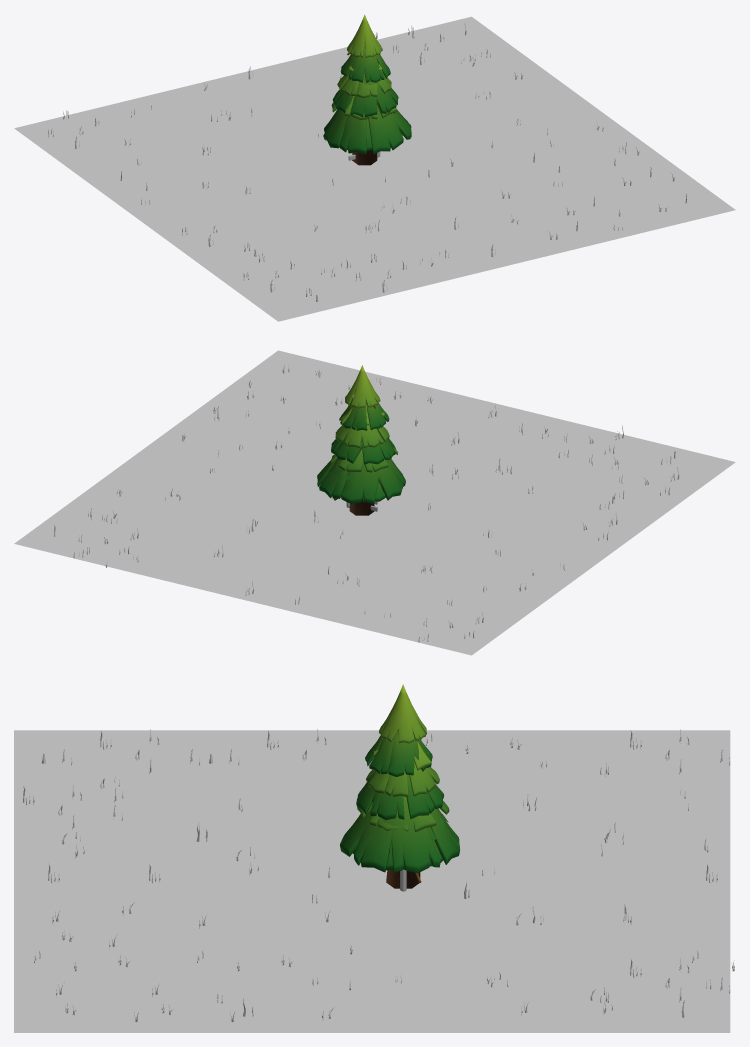
The model's file is env.fbx.
3 views of the same model, one above another, from view 1: azimuth 30°, elevation 25°; view 2: azimuth 150°, elevation 25°; view 3: azimuth 270°, elevation 25° (orthographic). The views are drawn at different scales.
Parts seen in each view (by area): view 1: node_id31, Circle.024, Circle.025, Circle.027, Circle.007, Circle.010; view 2: node_id31, Circle.024, Circle.025, Circle.027, Circle.010, Circle.007; view 3: node_id31, Circle.024, Circle.025, Circle.027, Circle.007, Circle.010.
Part boxes in pixels (x1=…): node_id31: x1=14, y1=16, x2=735, y2=321; Circle.024: x1=323, y1=105, x2=411, y2=154; Circle.025: x1=333, y1=71, x2=398, y2=117; Circle.027: x1=340, y1=38, x2=390, y2=82; Circle.007: x1=347, y1=14, x2=382, y2=57; Circle.010: x1=337, y1=70, x2=391, y2=98; node_id31: x1=14, y1=350, x2=735, y2=655; Circle.024: x1=317, y1=458, x2=405, y2=503; Circle.025: x1=331, y1=430, x2=395, y2=464; Circle.027: x1=339, y1=397, x2=389, y2=430; Circle.010: x1=335, y1=410, x2=389, y2=448; Circle.007: x1=345, y1=365, x2=380, y2=408; node_id31: x1=14, y1=730, x2=730, y2=1032; Circle.024: x1=340, y1=796, x2=460, y2=872; Circle.025: x1=356, y1=771, x2=444, y2=819; Circle.027: x1=365, y1=731, x2=432, y2=776; Circle.007: x1=379, y1=684, x2=426, y2=743; Circle.010: x1=366, y1=762, x2=439, y2=797.
Bounding box in the file's own units: 213 × 65.28 × 215.
